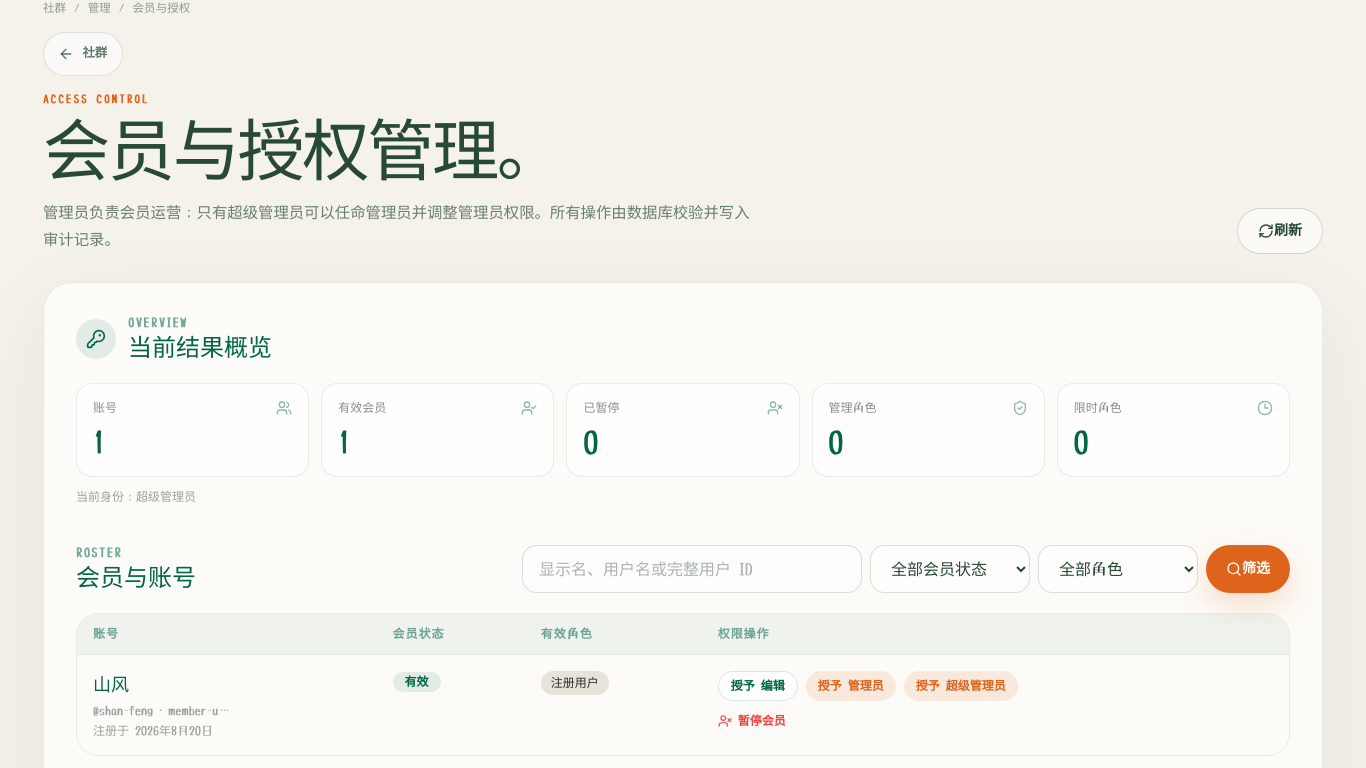
Test: CommunityAdminAccess › lets a super administrator confirm administrator appointment
Click the button "授予 管理员" at (851, 686), box [806,671,896,701]
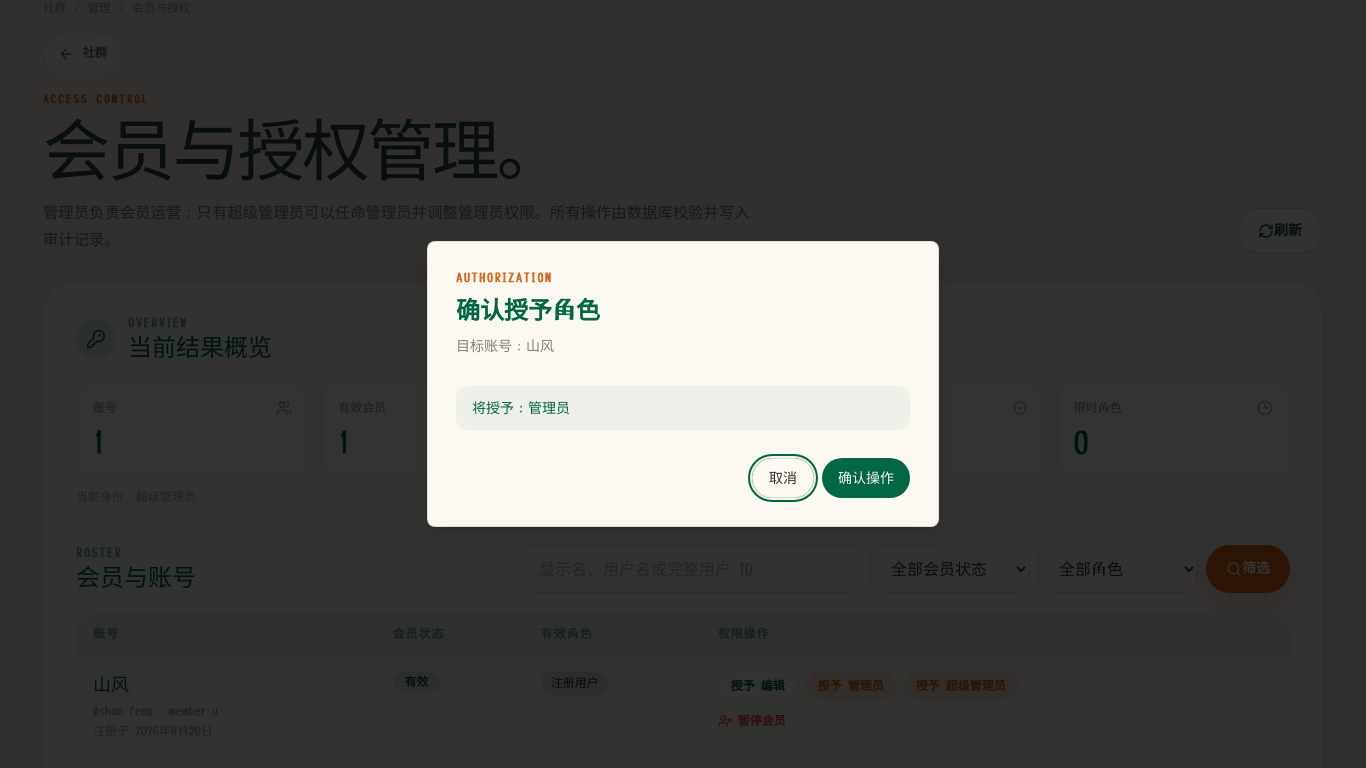
Check: the heading "确认授予角色" is shown, box [456,298,600,322]
Click the button "确认操作" at (866, 478), box [822,458,910,498]
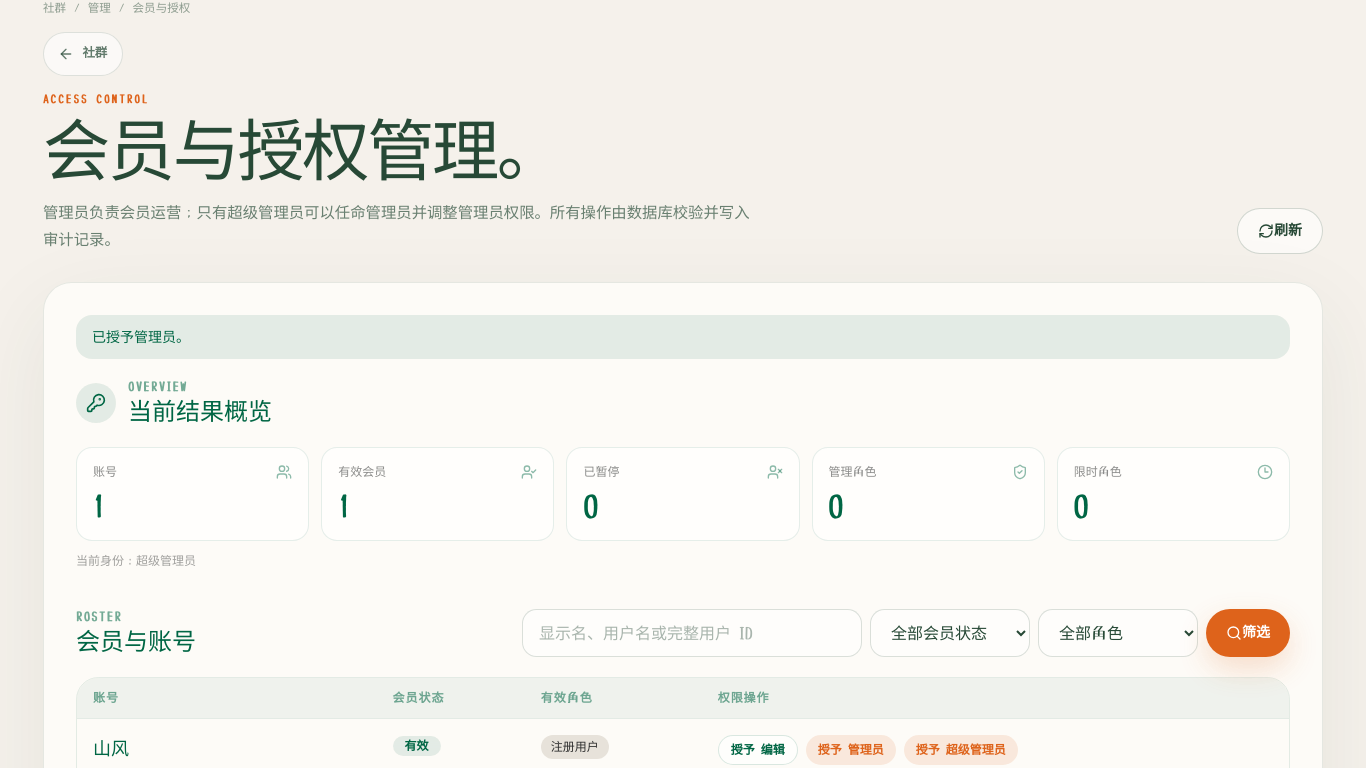
Check: the text "已授予管理员。" is shown, box [76,315,1290,359]
